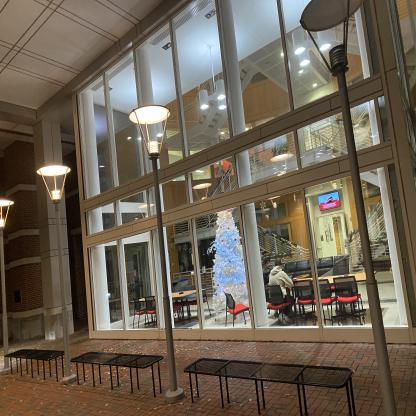eb2: (2, 3, 416, 345)
